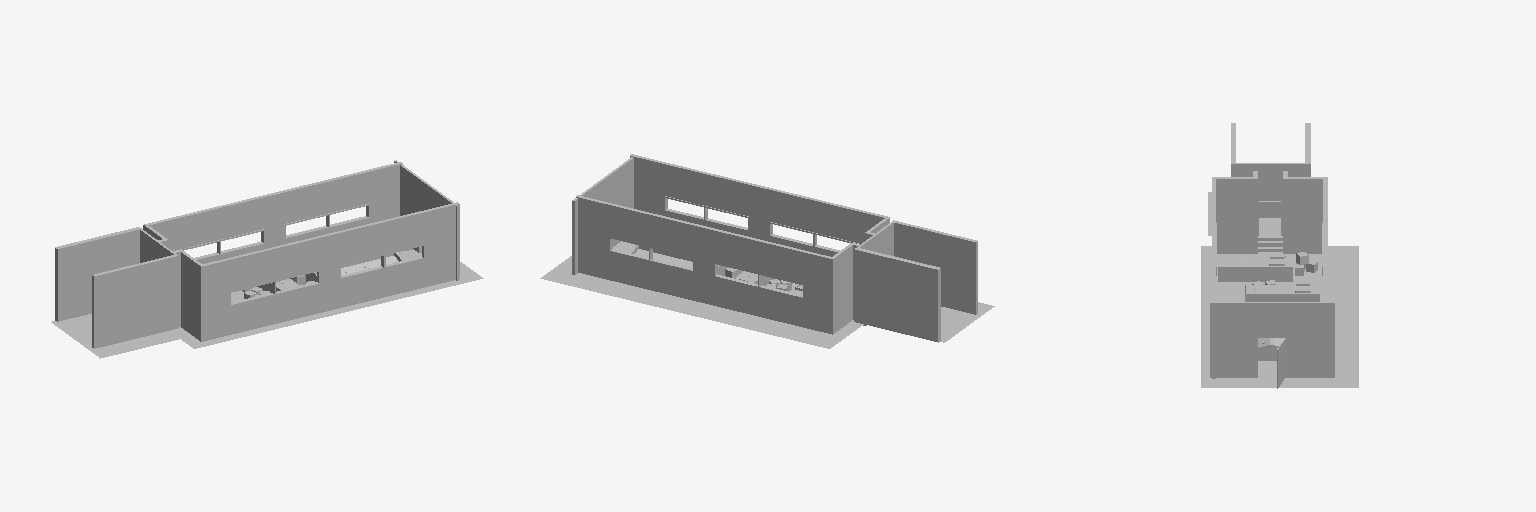
File: lvl1_scene.obj
3 renders of one model, left to right at view 1: azimuth 30°, elevation 25°; view 2: azimuth 150°, elevation 25°; view 3: azimuth 270°, elevation 25°, orthographic.
Parts seen in each view (by area): view 1: walls_SecondRoom_R, walls_FirstRoom, walls_SecondRoom_L, ground_SecondRoom, ground_FirstRoom, walls_SecondRoom_End, longFridge; view 2: walls_SecondRoom_L, walls_FirstRoom, walls_SecondRoom_R, ground_SecondRoom, walls_SecondRoom_End, ground_FirstRoom, longFridge; view 3: ground_SecondRoom, walls_SecondRoom_End, walls_SecondRoom_L, walls_SecondRoom_R, walls_FirstRoom, workbench_2, workbench_1, ground_FirstRoom.
Boxes of the visible parts, <box> form: walls_SecondRoom_R: <box>173,202,459,341</box>; walls_FirstRoom: <box>55,227,178,348</box>; walls_SecondRoom_L: <box>143,162,402,263</box>; ground_SecondRoom: <box>179,249,483,348</box>; ground_FirstRoom: <box>51,314,189,358</box>; walls_SecondRoom_End: <box>394,160,458,280</box>; longFridge: <box>305,252,402,281</box>; walls_SecondRoom_L: <box>576,195,866,334</box>; walls_FirstRoom: <box>854,220,977,342</box>; walls_SecondRoom_R: <box>630,154,889,256</box>; ground_SecondRoom: <box>540,241,863,348</box>; walls_SecondRoom_End: <box>572,157,633,274</box>; ground_FirstRoom: <box>940,302,994,342</box>; longFridge: <box>631,245,728,275</box>; ground_SecondRoom: <box>1201,246,1358,387</box>; walls_SecondRoom_End: <box>1210,302,1334,377</box>; walls_SecondRoom_L: <box>1283,171,1327,377</box>; walls_SecondRoom_R: <box>1212,171,1257,378</box>; walls_FirstRoom: <box>1231,123,1310,235</box>; workbench_2: <box>1218,258,1292,281</box>; workbench_1: <box>1245,285,1319,301</box>; ground_FirstRoom: <box>1208,192,1280,235</box>.
Bounding box in the file's own units: 645 × 138 × 231.